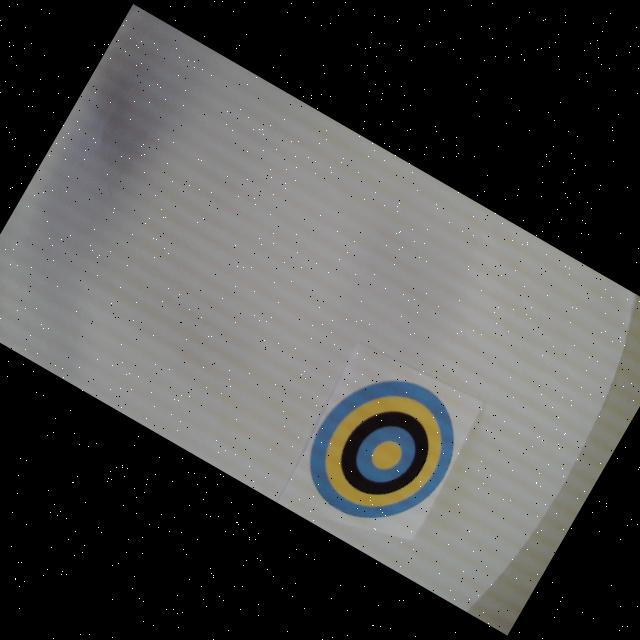COGNITIVE: (288, 352, 478, 548)
